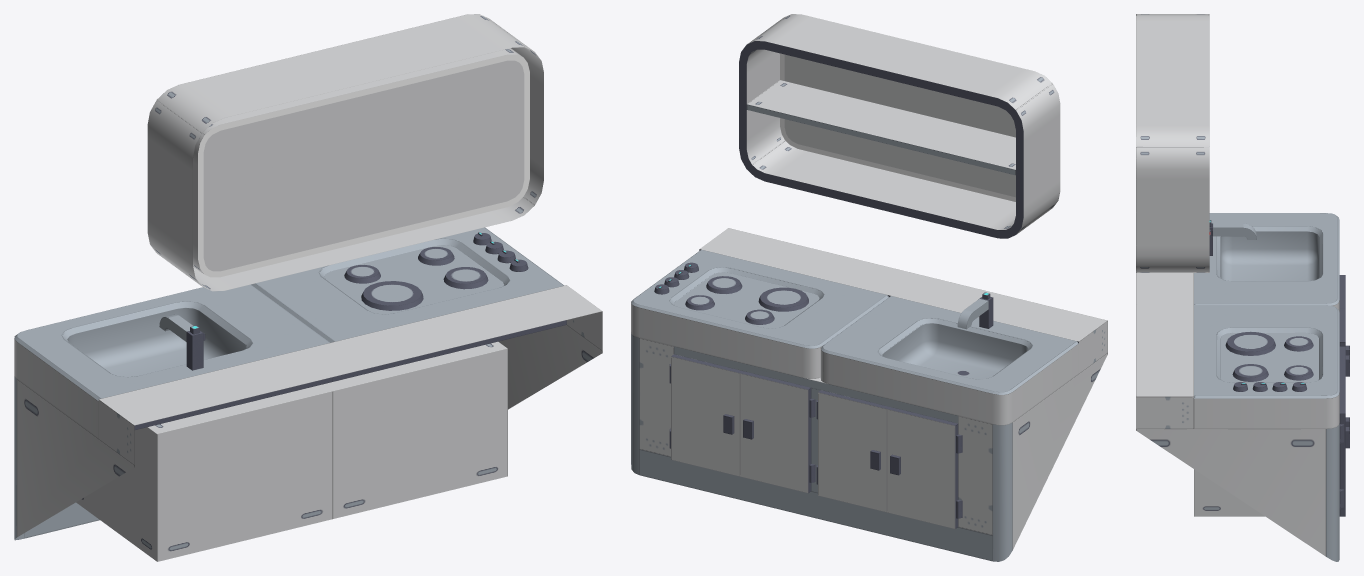
The model's file is Interior_Kitchen_01.FBX.
The picture shows the model from 3 angles, left to right: view 1: azimuth 30°, elevation 25°; view 2: azimuth 150°, elevation 25°; view 3: azimuth 270°, elevation 25°; orthographic projection. The views are drawn at different scales.
Visible parts, largest first — view 1: Interior_Kitchen_01; view 2: Interior_Kitchen_01, Door_RightA, Door_RightB, Door_LeftA, Door_LeftB; view 3: Interior_Kitchen_01, Door_LeftA, Door_LeftB, Door_RightB, Door_RightA.
Boxes of the visible parts, bbox=[...] form: Interior_Kitchen_01: bbox=[14, 14, 602, 561]; Interior_Kitchen_01: bbox=[631, 14, 1107, 561]; Door_RightA: bbox=[739, 371, 815, 493]; Door_RightB: bbox=[886, 407, 962, 528]; Door_LeftA: bbox=[669, 354, 741, 476]; Door_LeftB: bbox=[816, 390, 888, 512]; Interior_Kitchen_01: bbox=[1136, 14, 1339, 561]; Door_LeftA: bbox=[1339, 380, 1349, 516]; Door_LeftB: bbox=[1339, 308, 1349, 376]; Door_RightB: bbox=[1339, 275, 1349, 355]; Door_RightA: bbox=[1339, 346, 1349, 426].
Bounding box in the file's own units: 3 × 3.03 × 1.47.
Materials: 4 (4 with a texture image).
